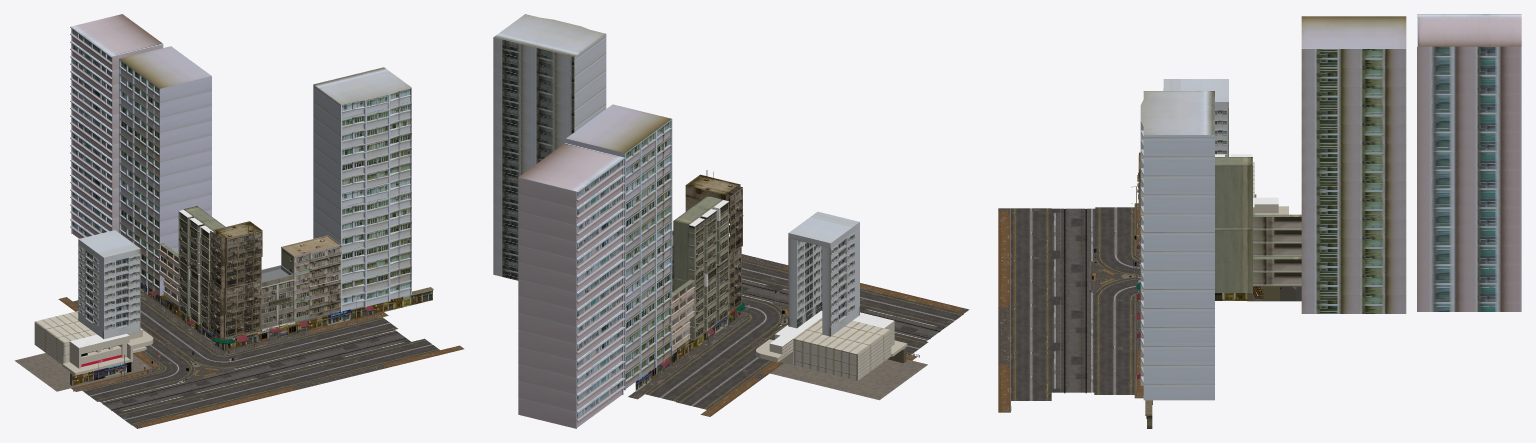
File: hk_block.glb
3 views of the same model, side by side, from view 1: azimuth 30°, elevation 25°; view 2: azimuth 150°, elevation 25°; view 3: azimuth 270°, elevation 25° (orthographic). The views are drawn at different scales.
Parts seen in each view (by area): view 1: Plane.021_199, Cube.052_342, Cube.057_347, Plane.068_276, Cube.046_336, Plane.039_216, Cube.015_230, Plane.020_196, Cube.068_286, Cube.084_312, Cube.058_348, Cube.083_311 (+67 smaller); view 2: Cube.057_347, Cube.046_336, Cube.068_286, Cube.052_342, Cube.058_348, Cube.059_349, Cube.060_350, Plane.099_468, Plane.068_276, Cube.048_338, Cube.045_335, Cube.043_333 (+58 smaller); view 3: Cube.052_342, Cube.046_336, Cube.057_347, Plane.062_253, Plane.044_223, Cube.089_317, Cube.090_318, Cube.092_320, Cube.093_321, Cube.094_322, Cube.049_339, Cube.050_340 (+57 smaller).
Part boxes in pixels (x1,y1,x2,y2): Plane.021_199: (281, 234, 341, 321); Cube.052_342: (119, 46, 211, 103); Cube.057_347: (313, 67, 411, 119); Plane.068_276: (209, 221, 262, 289); Cube.046_336: (70, 14, 163, 70); Plane.039_216: (208, 280, 261, 337); Cube.015_230: (62, 328, 153, 375); Plane.020_196: (260, 265, 294, 329); Cube.068_286: (34, 311, 96, 364); Cube.084_312: (313, 173, 411, 208); Cube.058_348: (313, 99, 411, 134); Cube.083_311: (313, 188, 411, 223); Cube.057_347: (493, 14, 606, 73); Cube.046_336: (518, 143, 624, 208); Cube.068_286: (793, 317, 891, 380); Cube.052_342: (566, 104, 672, 169); Cube.058_348: (493, 51, 606, 90); Cube.059_349: (493, 85, 606, 124); Cube.060_350: (493, 68, 606, 107); Plane.099_468: (770, 363, 903, 400); Plane.068_276: (685, 170, 743, 253); Cube.048_338: (518, 208, 624, 259); Cube.045_335: (518, 174, 624, 225); Cube.043_333: (518, 225, 624, 276); Cube.052_342: (1301, 16, 1406, 67); Cube.046_336: (1417, 14, 1521, 65); Cube.057_347: (1140, 91, 1214, 153); Plane.062_253: (1215, 157, 1252, 228); Plane.044_223: (1215, 228, 1252, 292); Cube.089_317: (1301, 219, 1406, 238); Cube.090_318: (1301, 200, 1406, 219); Cube.092_320: (1301, 181, 1406, 200); Cube.093_321: (1301, 257, 1406, 276); Cube.094_322: (1301, 238, 1406, 257); Cube.049_339: (1301, 124, 1406, 143); Cube.050_340: (1301, 143, 1406, 162).
Size of the model in its own units: 102 by 56.87 by 96.05.
Materials: 72 (69 with a texture image).
